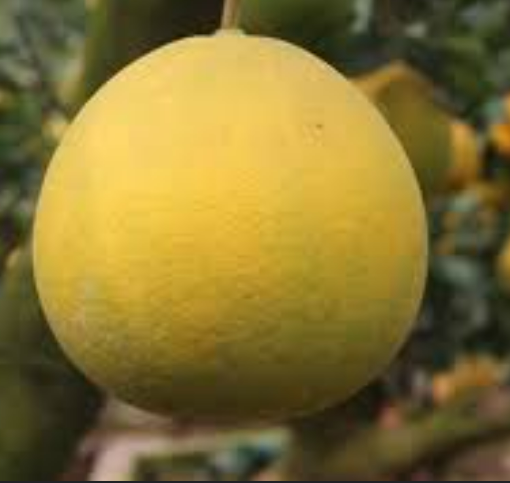buoi: (29, 28, 430, 435)
